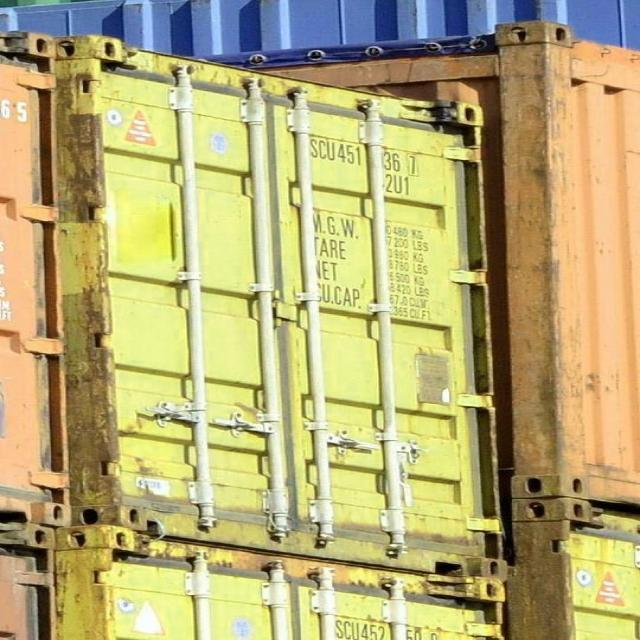ISO: (380, 173, 414, 199)
container_number: (307, 138, 423, 178)
